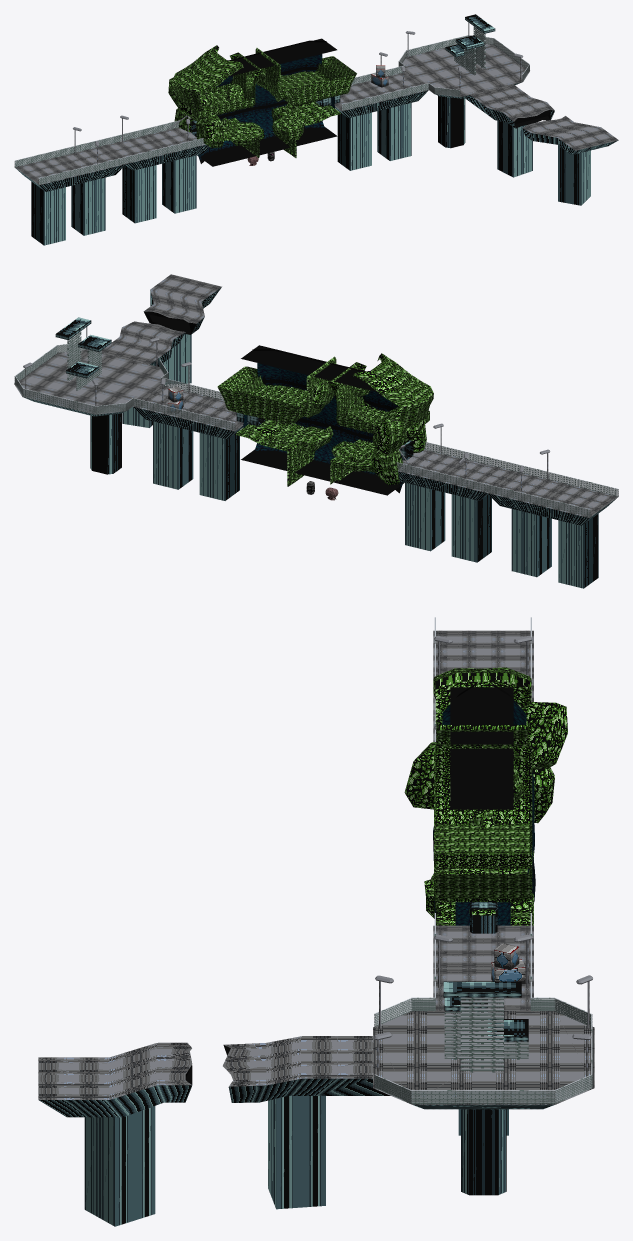
Rendered from cavepassage.glb.
The picture shows the model from 3 angles, top to bottom: view 1: azimuth 30°, elevation 25°; view 2: azimuth 150°, elevation 25°; view 3: azimuth 270°, elevation 25°; orthographic projection. The views are drawn at different scales.
Visible parts, largest first — view 1: polySurface4, pPlane7, polySurface15, polySurface9, pCube65, polySurface10, polySurface12, polySurface14, polySurface1, polySurface11, polySurface2, polySurface13 (+23 smaller); view 2: polySurface4, polySurface15, polySurface12, pPlane2, polySurface10, polySurface1, pCube65, polySurface14, polySurface11, polySurface2, polySurface16, polySurface13 (+23 smaller); view 3: polySurface4, polySurface10, polySurface9, polySurface8, pPlane6, pCube5, polySurface7, polySurface1, pCube6, polySurface5, polySurface15, pCube35 (+9 smaller).
Boxes of the visible parts, x1=… form: polySurface4: x1=401, y1=44, x2=529, y2=98; pPlane7: x1=198, y1=40, x2=326, y2=163; polySurface15: x1=14, y1=146, x2=125, y2=191; polySurface9: x1=465, y1=84, x2=554, y2=128; pCube65: x1=173, y1=45, x2=243, y2=110; polySurface10: x1=522, y1=116, x2=618, y2=154; polySurface12: x1=102, y1=127, x2=209, y2=170; polySurface14: x1=31, y1=181, x2=65, y2=245; polySurface1: x1=334, y1=72, x2=428, y2=117; polySurface11: x1=122, y1=165, x2=156, y2=223; polySurface2: x1=337, y1=111, x2=371, y2=170; polySurface13: x1=162, y1=155, x2=196, y2=213; polySurface4: x1=14, y1=349, x2=165, y2=416; polySurface15: x1=487, y1=471, x2=618, y2=525; polySurface12: x1=398, y1=449, x2=515, y2=500; pPlane2: x1=252, y1=349, x2=403, y2=493; polySurface10: x1=143, y1=274, x2=221, y2=334; polySurface1: x1=133, y1=385, x2=243, y2=439; pCube65: x1=352, y1=353, x2=433, y2=428; polySurface14: x1=558, y1=513, x2=598, y2=588; polySurface11: x1=451, y1=494, x2=491, y2=562; polySurface2: x1=199, y1=430, x2=239, y2=500; polySurface16: x1=511, y1=509, x2=551, y2=577; polySurface13: x1=405, y1=483, x2=445, y2=551; polySurface4: x1=373, y1=1011, x2=594, y2=1109; polySurface10: x1=38, y1=1042, x2=192, y2=1117; polySurface9: x1=223, y1=1036, x2=390, y2=1102; polySurface8: x1=84, y1=1106, x2=155, y2=1226; pPlane6: x1=450, y1=687, x2=513, y2=809; pCube5: x1=434, y1=744, x2=532, y2=870; polySurface7: x1=268, y1=1096, x2=325, y2=1209; polySurface1: x1=433, y1=925, x2=533, y2=1010; pCube6: x1=434, y1=803, x2=532, y2=902; polySurface5: x1=461, y1=1109, x2=506, y2=1195; polySurface15: x1=433, y1=630, x2=533, y2=715; pCube35: x1=460, y1=997, x2=503, y2=1072.
Bounding box in the file's own units: 10.42 × 2.94 × 5.17.
13 materials, 12 textured.
